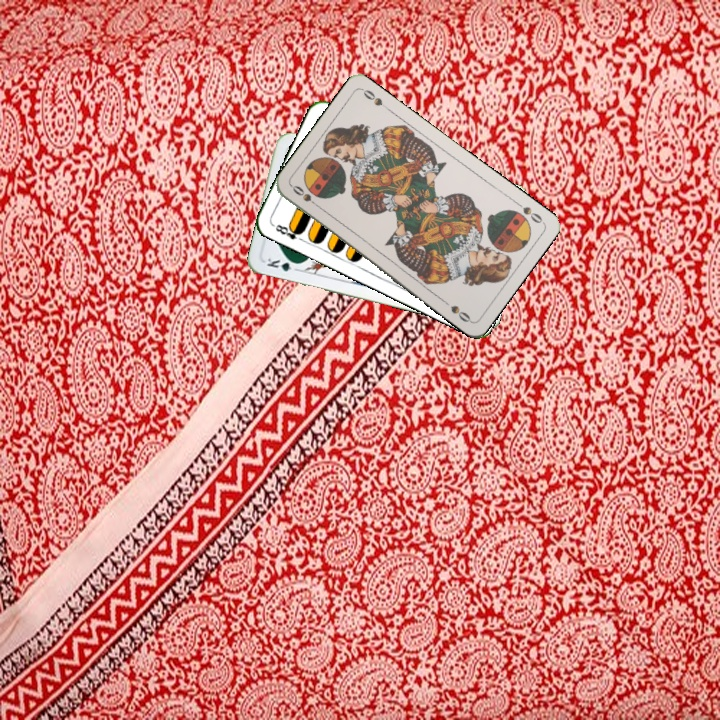E8: (271, 220, 307, 244)
GK: (263, 254, 303, 274)
SO: (288, 181, 323, 211), (511, 197, 545, 226)
